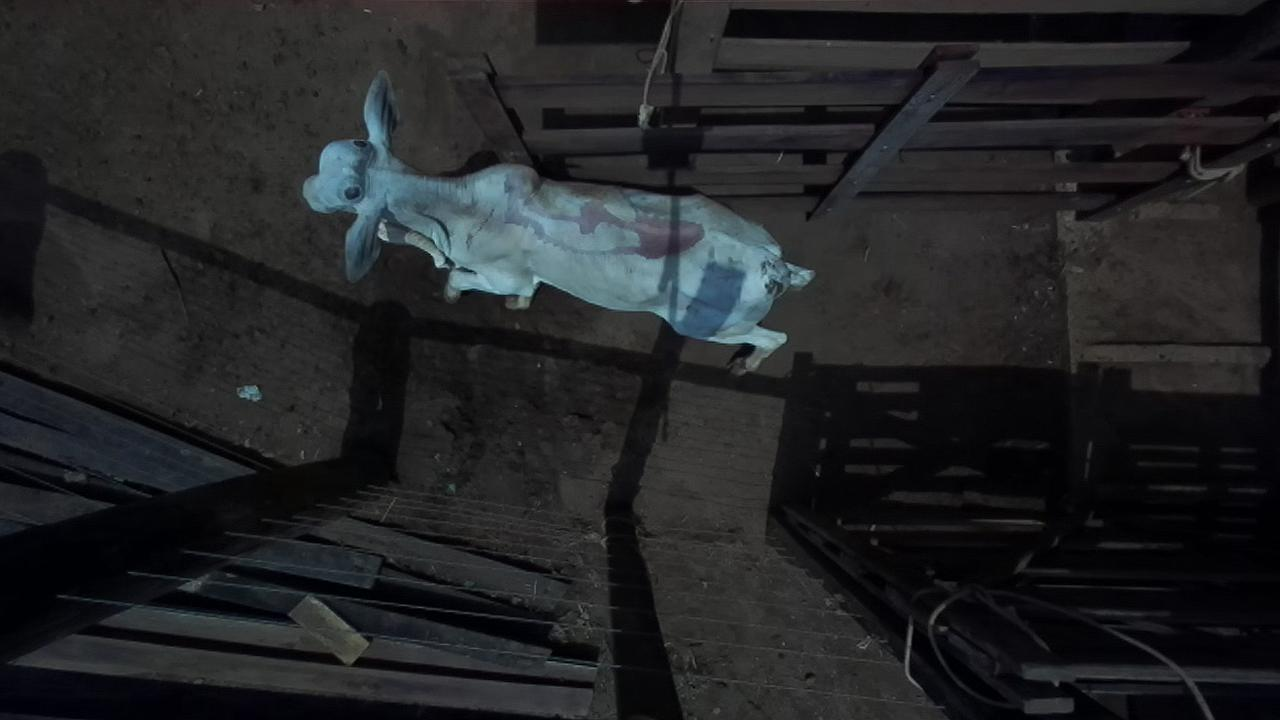cattle: (301, 68, 816, 377)
